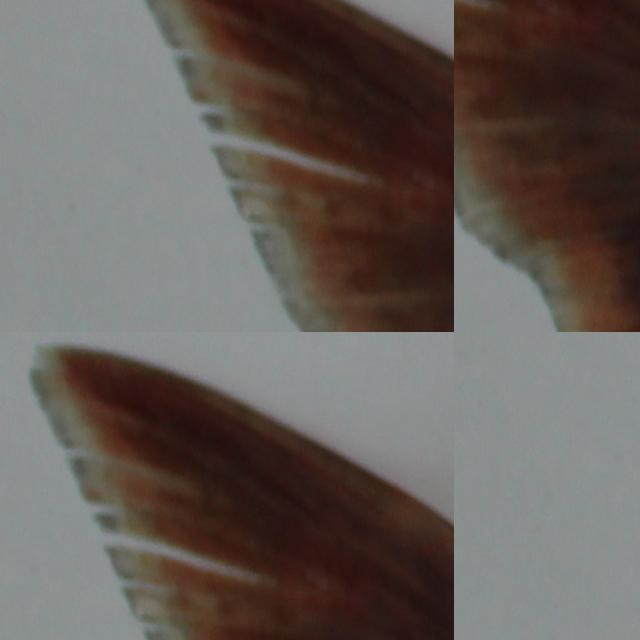fish: (0, 332, 454, 640), (579, 332, 640, 640)
